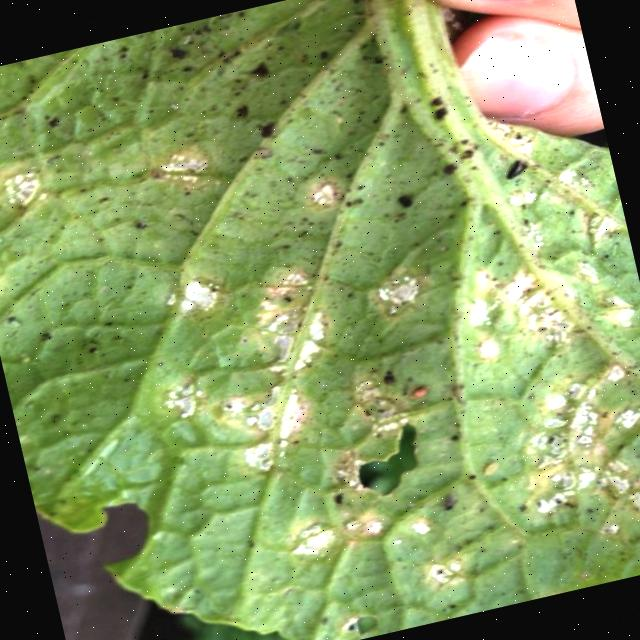Powdery_mildew_on_lettuce: (130, 132, 640, 611)
